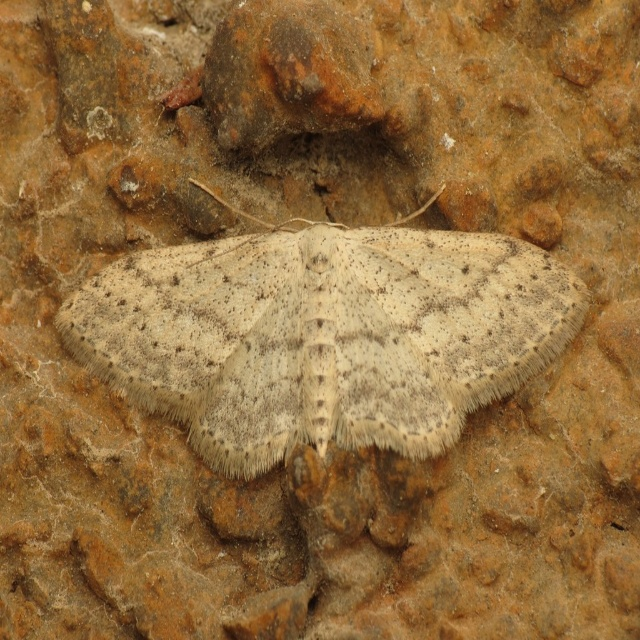Moths and butterflies: (56, 183, 592, 481)
